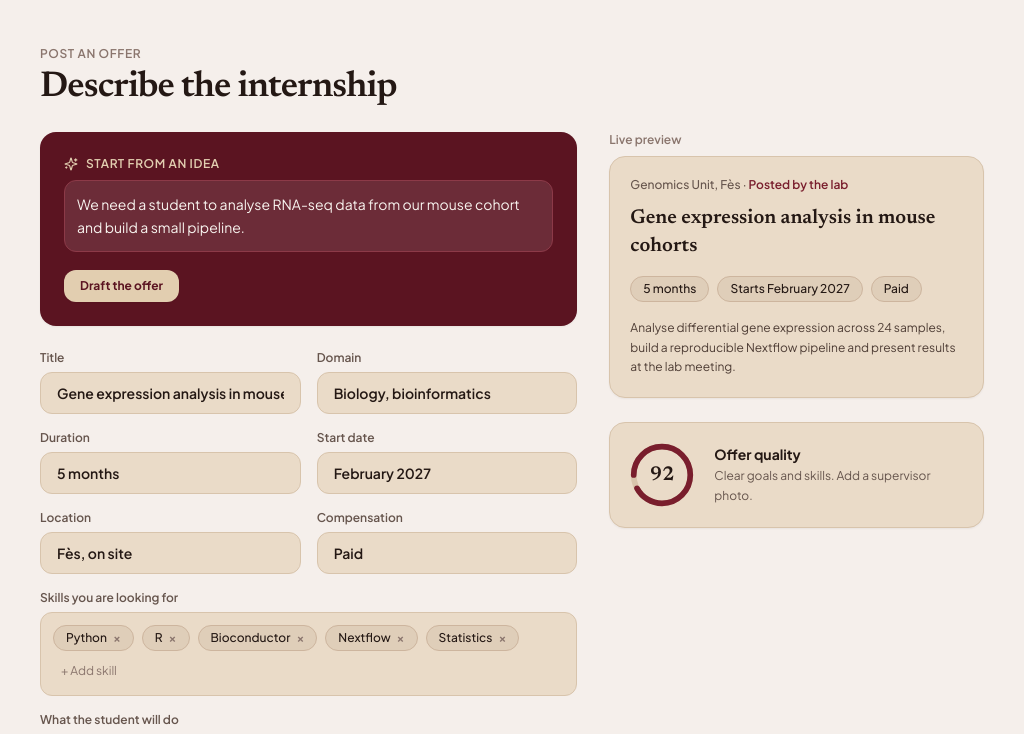
LabPostOfferPage › allows adding and removing skills dynamically
// Remove Python
Click the button titled "Remove Python" next to "Python": point(117, 638) [113,630,121,646]
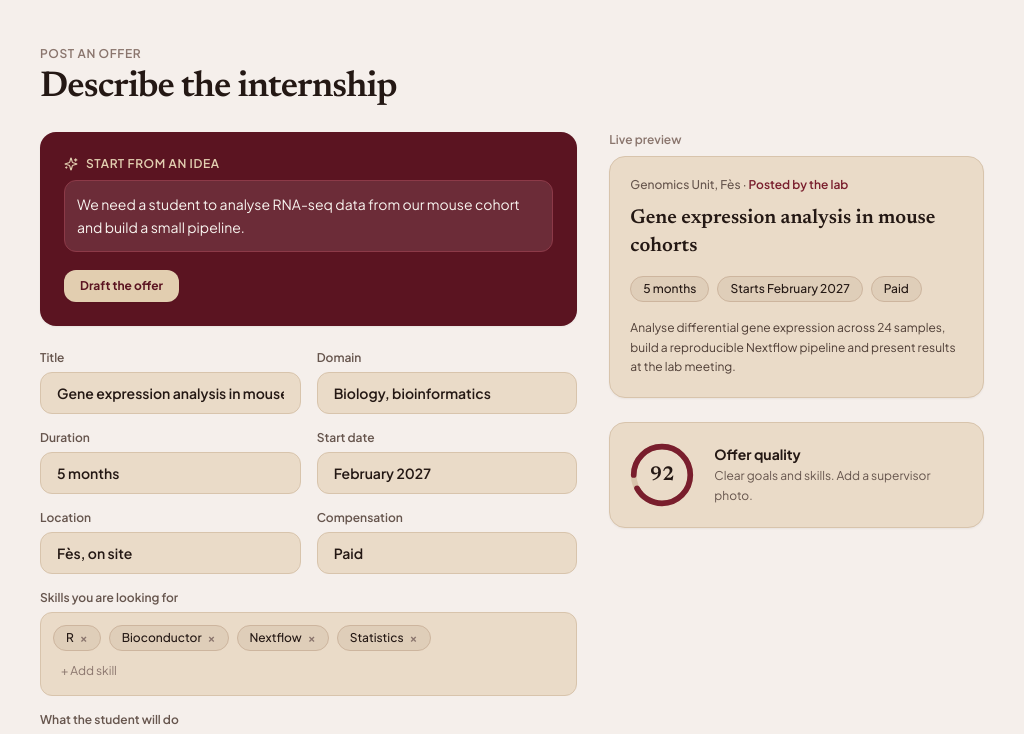
Result: the text "Python" is gone
// Add Docker
In the field with placeholder "+ Add skill": point(117, 670) [53,658,181,682], type "Docker"
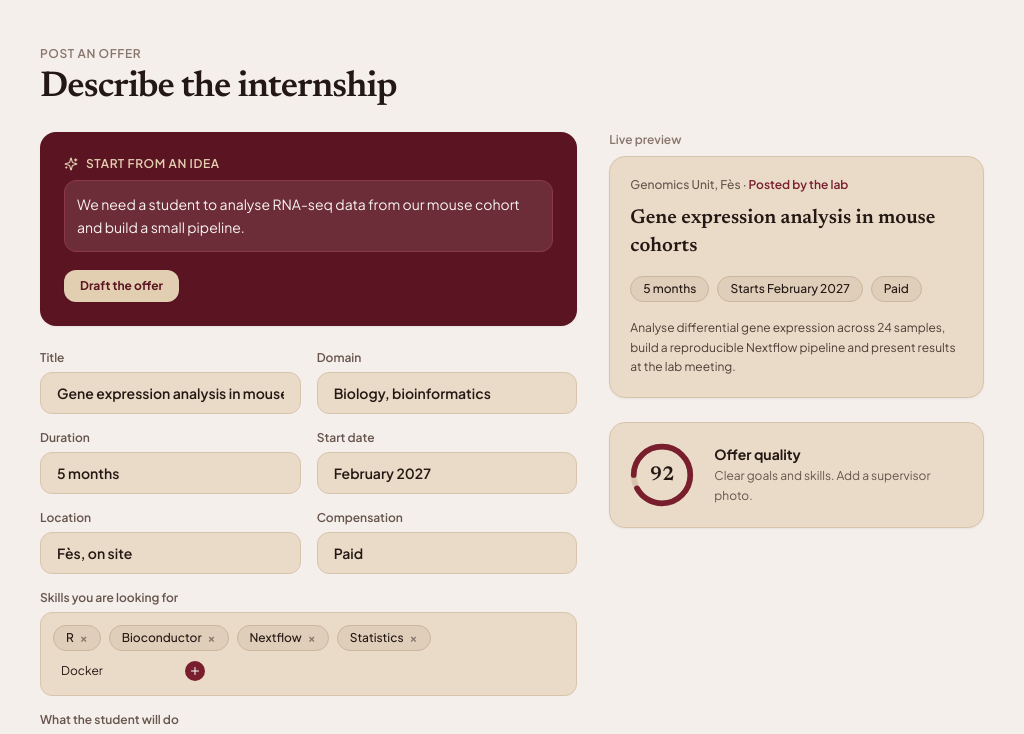
Press Enter in the field with placeholder "+ Add skill" below "Bioconductor", box [53,658,181,682]
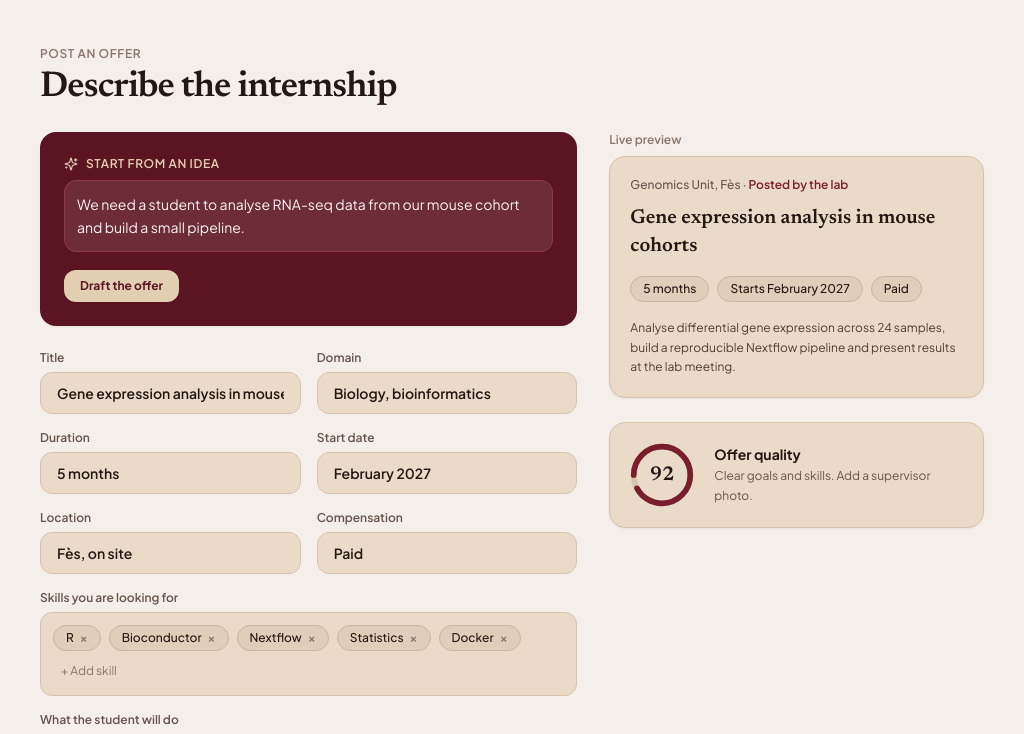
Result: the text "Docker" is shown at [452,630,494,646]
